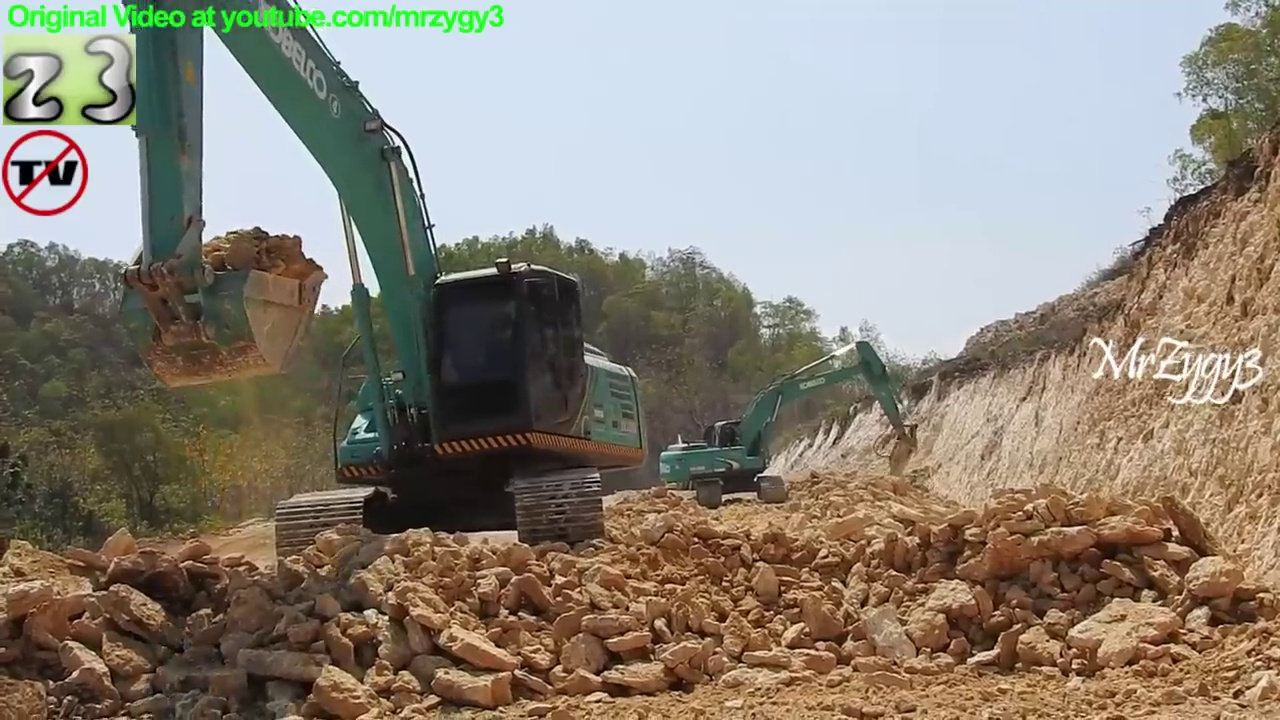excavator: (105, 1, 654, 589)
excavator breaker: (657, 338, 924, 514)
